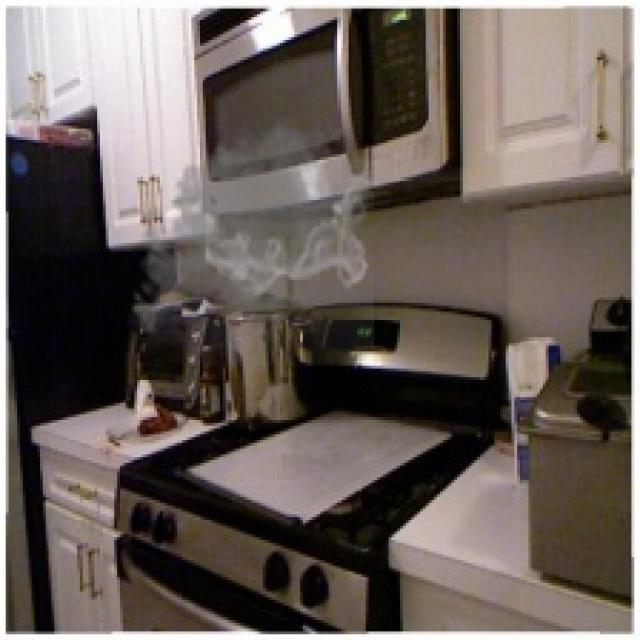Smoke: (126, 106, 377, 366)
